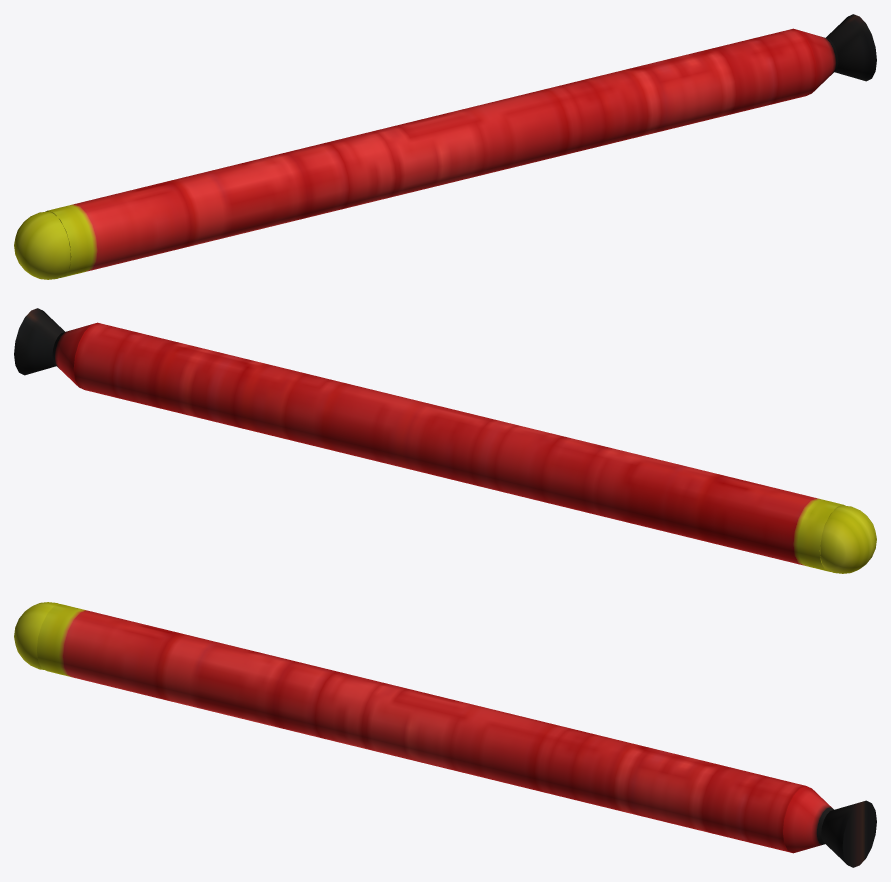
Rendered from RocketSmall.fbx.
The picture shows the model from 3 angles, top to bottom: view 1: azimuth 30°, elevation 25°; view 2: azimuth 150°, elevation 25°; view 3: azimuth 330°, elevation 25°; orthographic projection.
Parts seen in each view (by area): view 1: RocketSmall; view 2: RocketSmall; view 3: RocketSmall.
Part boxes in pixels (box(x1,y1,x2,y2)): RocketSmall: box(14, 14, 876, 279); RocketSmall: box(14, 308, 876, 573); RocketSmall: box(14, 602, 876, 867).
Size of the model in its own units: 70.47 by 5 by 5.
Materials: 1 (1 with a texture image).
